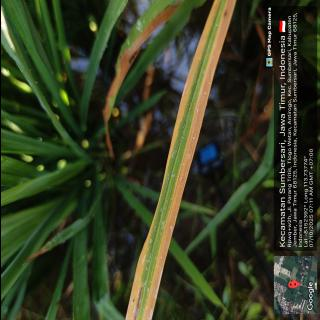Hawar-Daun: (124, 0, 235, 320)
